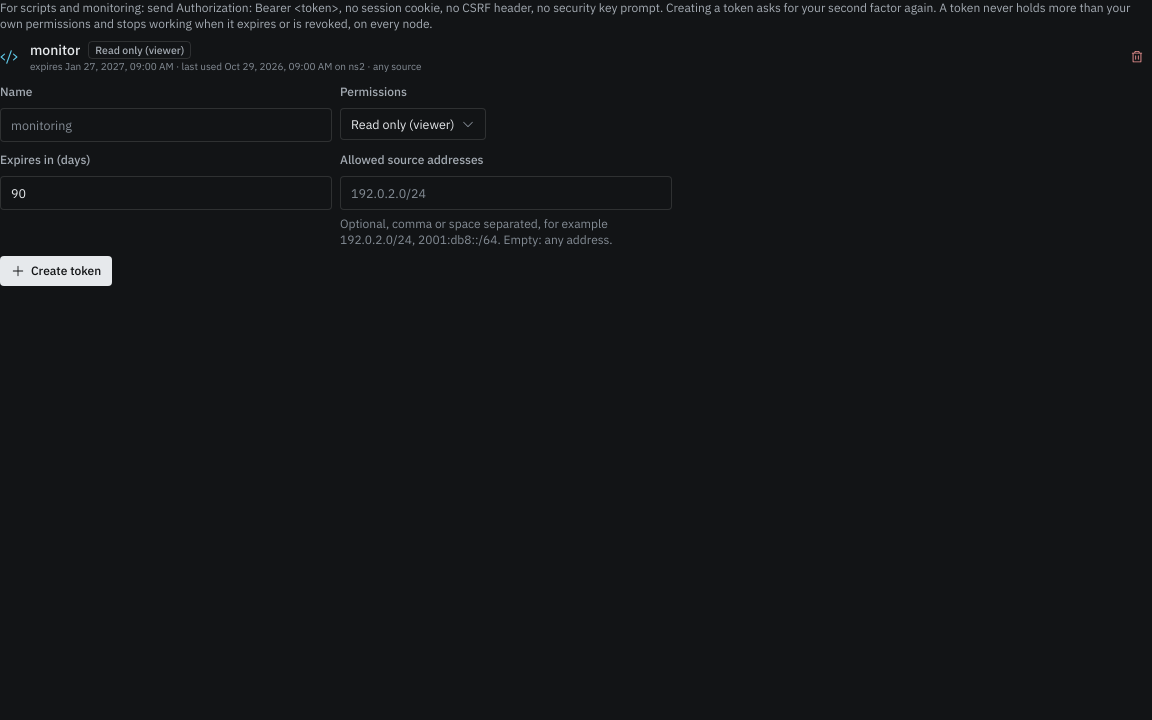
Test: ApiTokensSection › creates a token behind a fresh key assertion and shows the secret once
This screenshot has width=1152, height=720.
Expected: the text with test id "token-name" reads "monitor", [30,41,80,59]
Expected: the text "on ns2" is shown, [182,60,365,73]
Step 1. Click the button with test id "token-add-submit" → (56, 271), box [0,256,112,286]
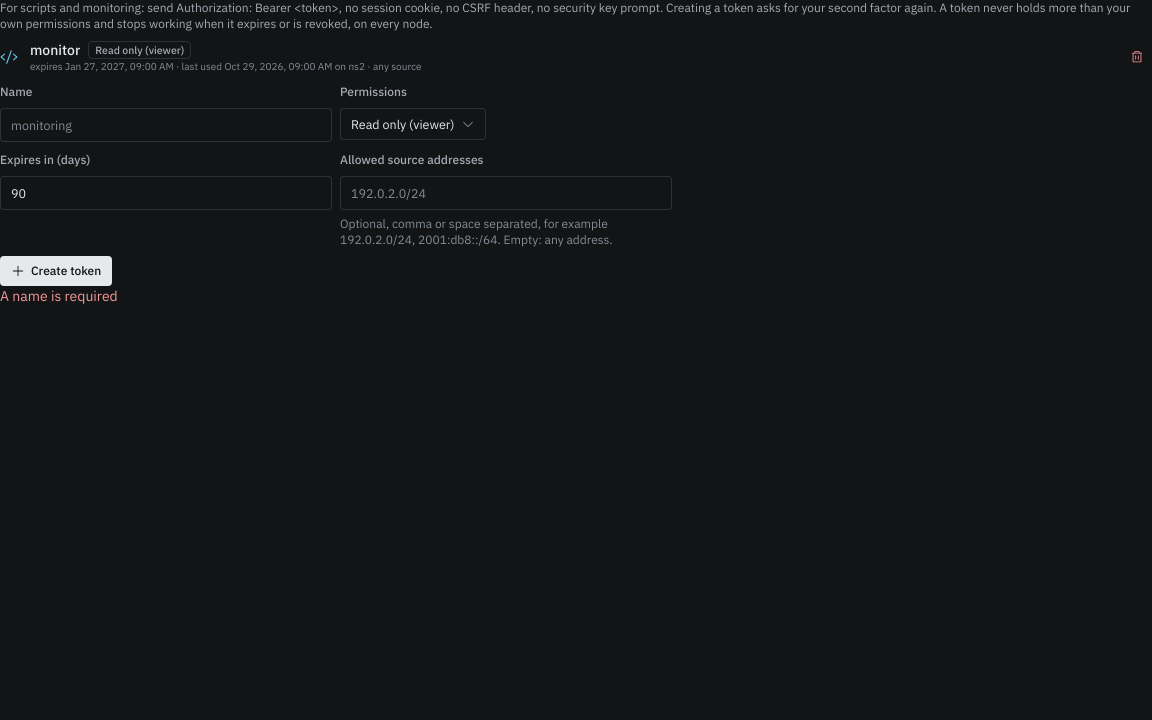
Now the message with test id "token-error" reads "A name is required", box [0,287,118,305]
Step 2. Type "ci" into the field with test id "token-name-input" → (166, 125), box [0,108,332,142]
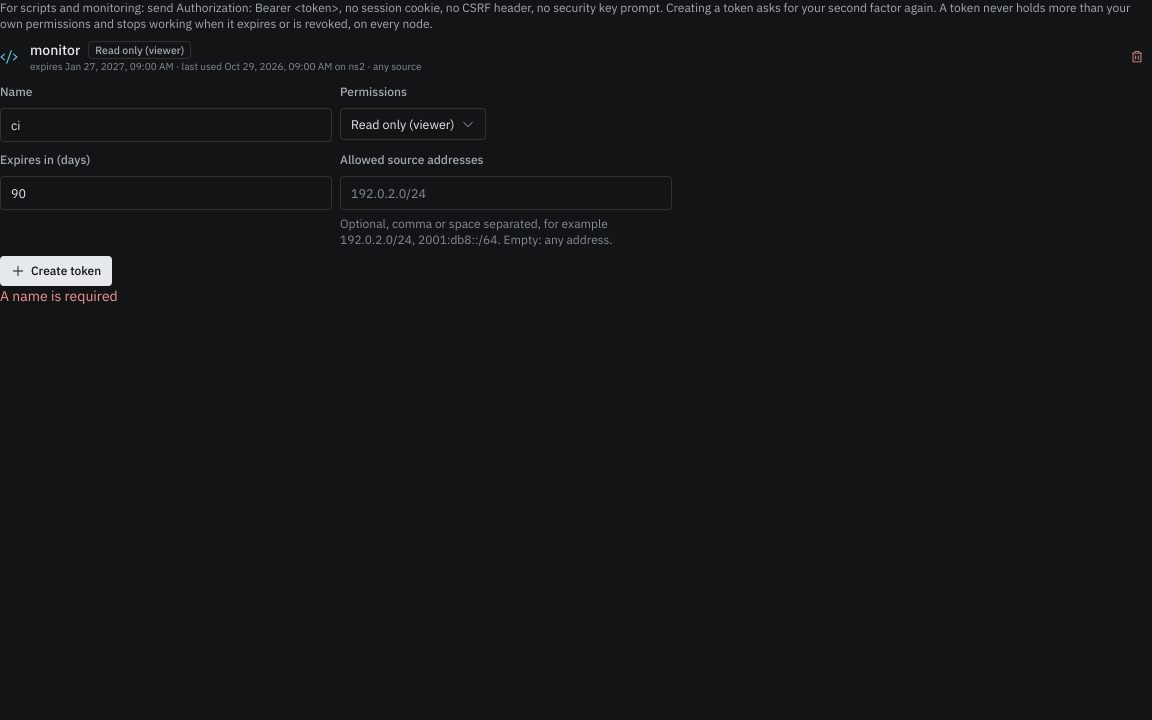
Step 3. Type "192.0.2.0/24, 2001:db8::/64" into the field with test id "token-cidrs-input" → (506, 193), box [340,176,672,210]
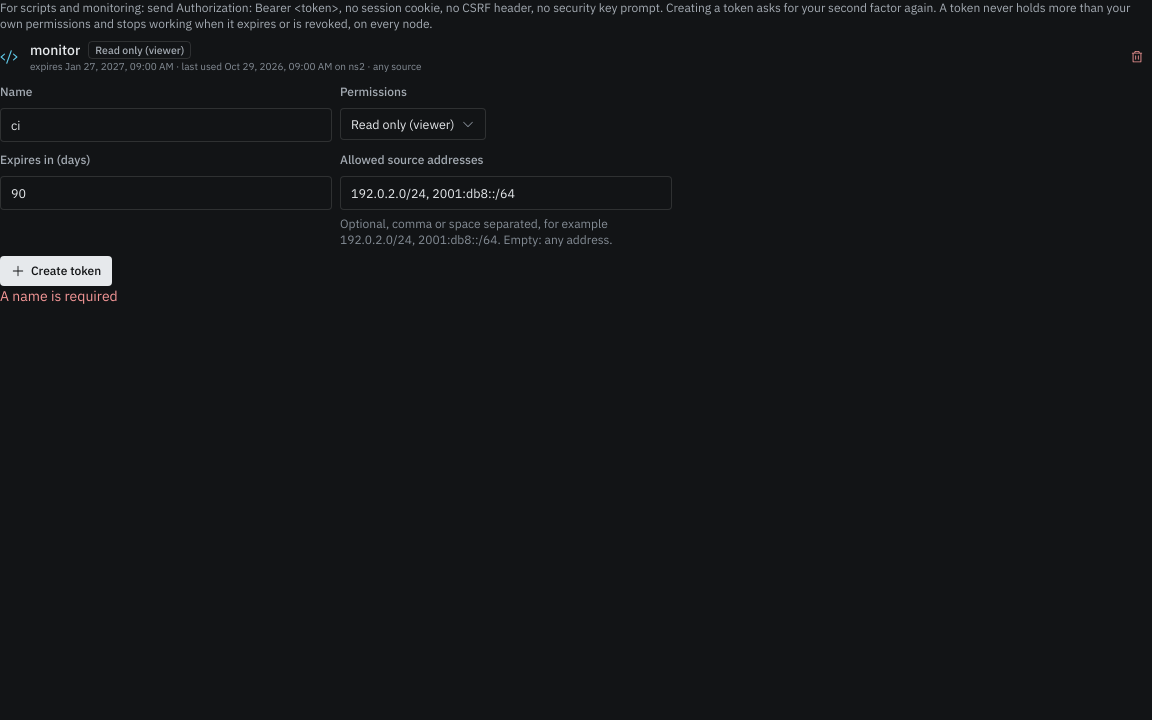
Step 4. Click the button with test id "token-add-submit" → (56, 271), box [0,256,112,286]
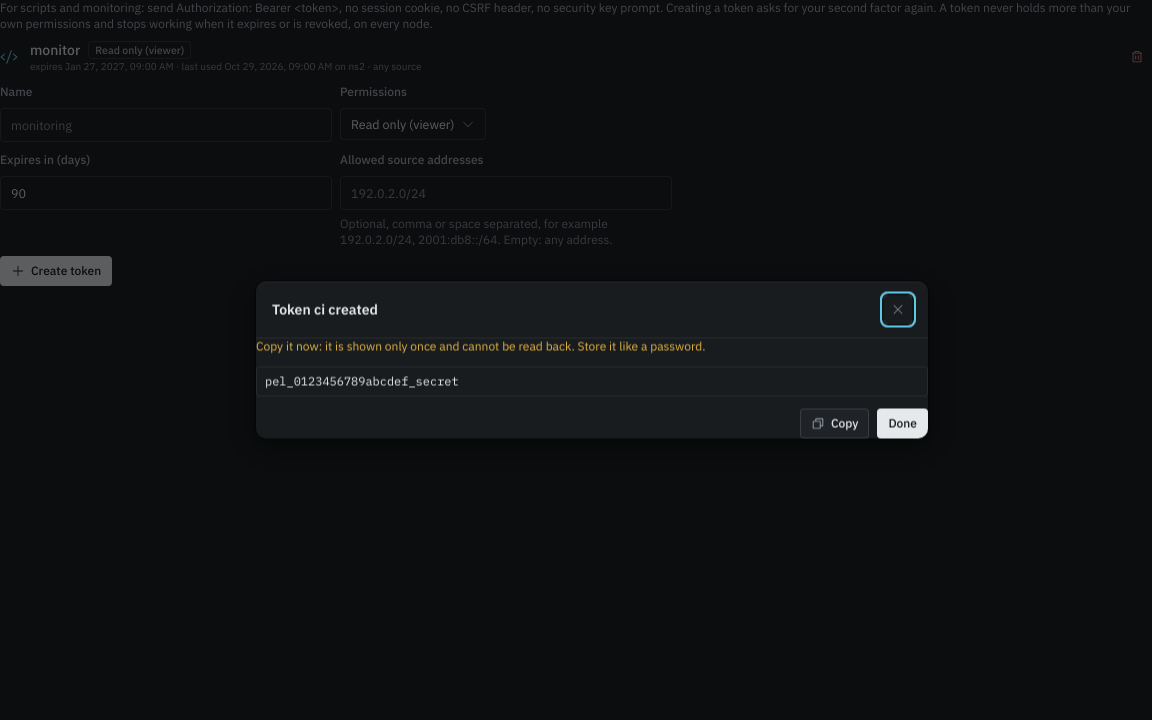
Now the text with test id "token-secret" reads "pel_0123456789abcdef_secret", box [265,374,459,388]
